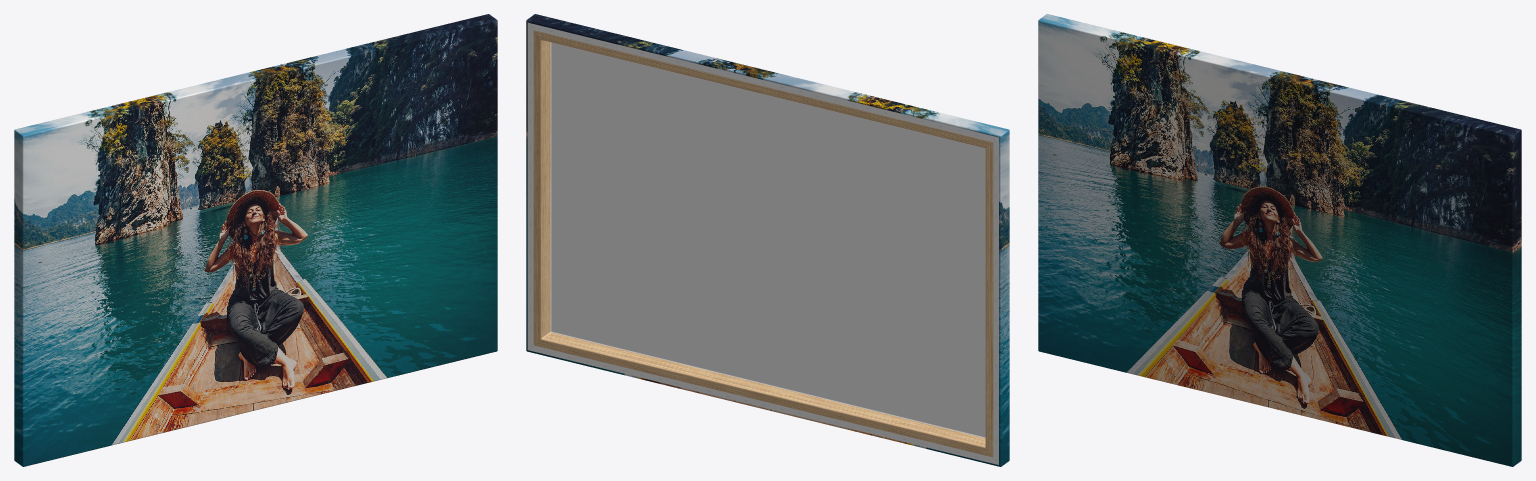
Rendered from canvas-120x80x4cm-landscape-motif.glb.
3 views of the same model, side by side, from view 1: azimuth 30°, elevation 25°; view 2: azimuth 150°, elevation 25°; view 3: azimuth 330°, elevation 25° (orthographic).
Visible parts, largest first — view 1: Product; view 2: Product; view 3: Product.
Part boxes in pixels (box(x1,y1,x2,y2)): Product: box(14, 14, 497, 466); Product: box(526, 14, 1009, 466); Product: box(1038, 14, 1521, 466).
Size of the model in its own units: 1.2 by 0.8 by 0.0405.
Materials: 4 (2 with a texture image).
